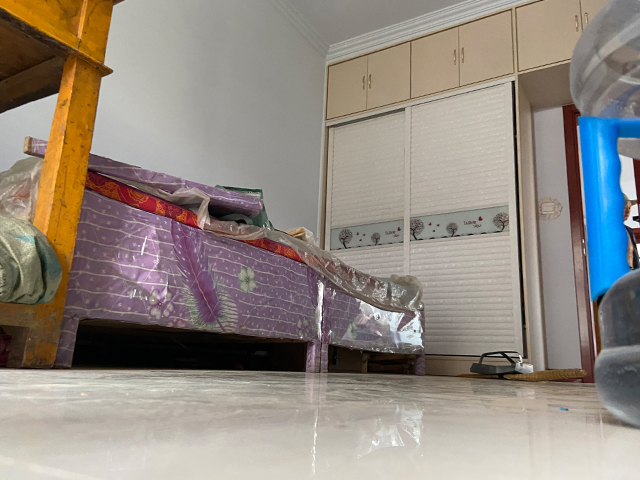bed: (54, 186, 427, 377)
cabinet: (317, 1, 612, 379)
